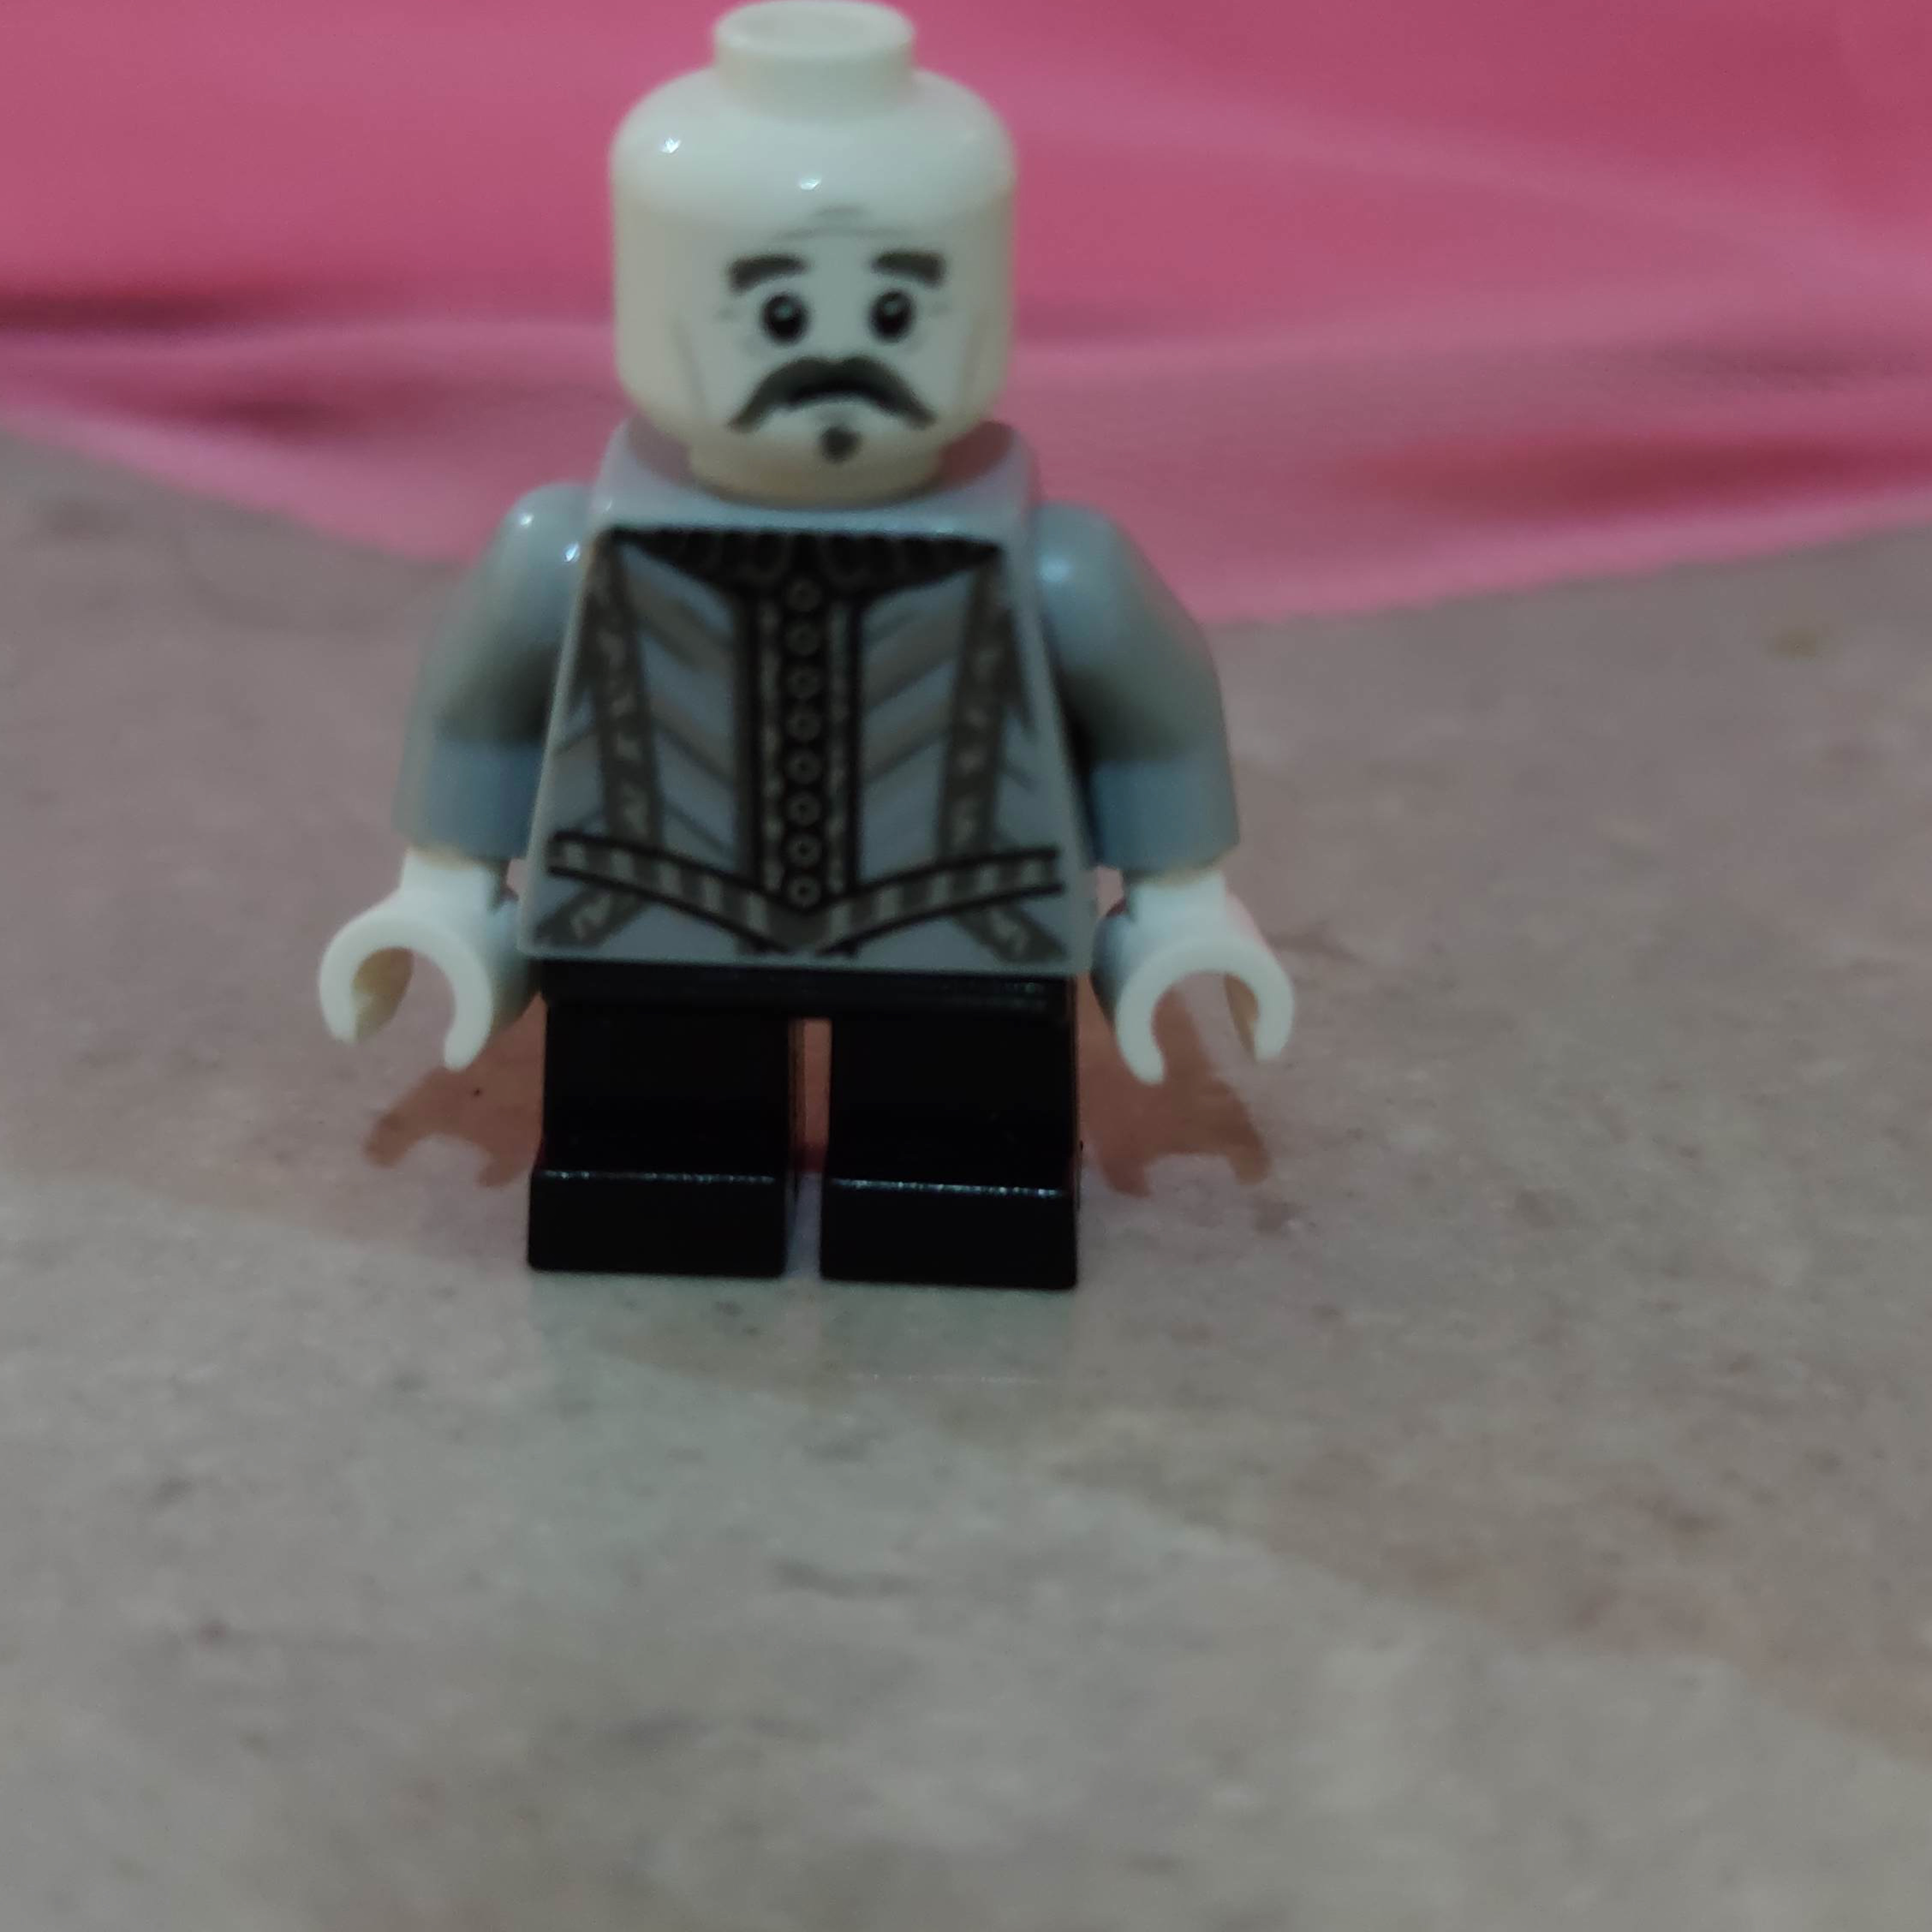lego: (318, 0, 1295, 1302)
